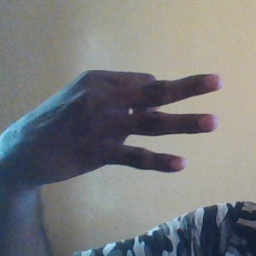K: (17, 68, 230, 178)
